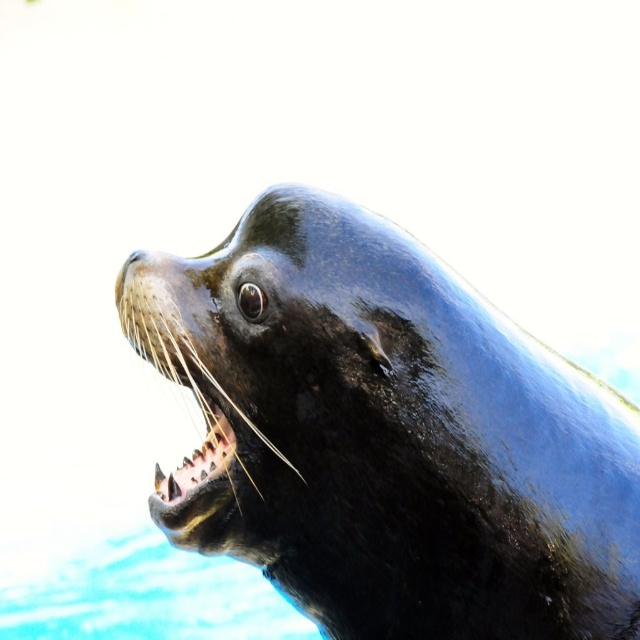Sea lion: (115, 180, 640, 639)
